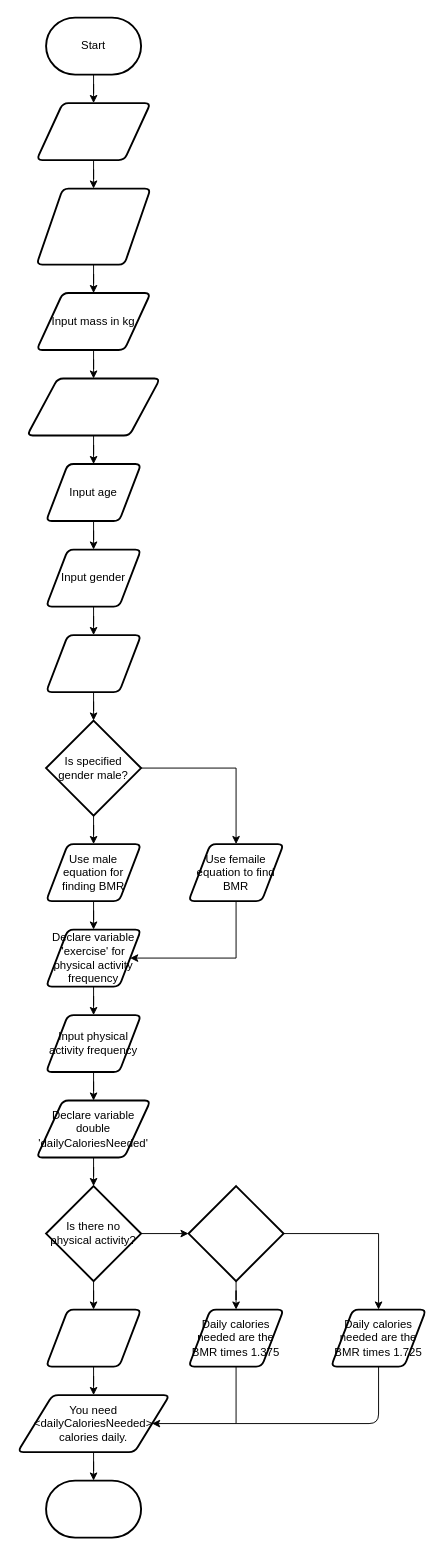
This 443x1554 diagram has some shape labels left out. Here are the shapes that lost their labels. From the top down, the box of each, then its label:
(35, 102, 151, 161): Display Program Instructions
(35, 187, 151, 265): Declare variables: mass, height, age as integers + gender as character
(26, 377, 161, 436): Input height in cm
(45, 634, 142, 693): Declare variable 'bmr'
(187, 1185, 284, 1282): Is there light physical activity?
(45, 1308, 142, 1367): Daily calories needed are the BMR times 1.2
(45, 1479, 142, 1538): End
